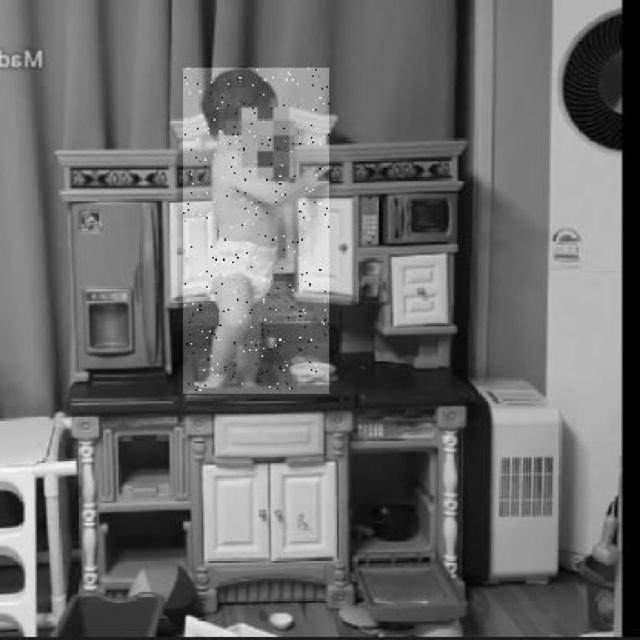child: (183, 68, 329, 394)
